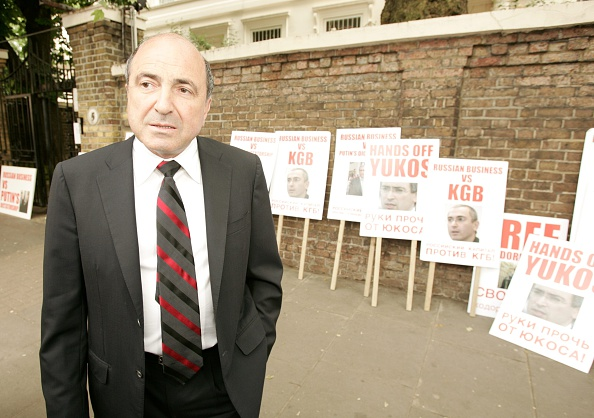em pe: (16, 22, 311, 418)
